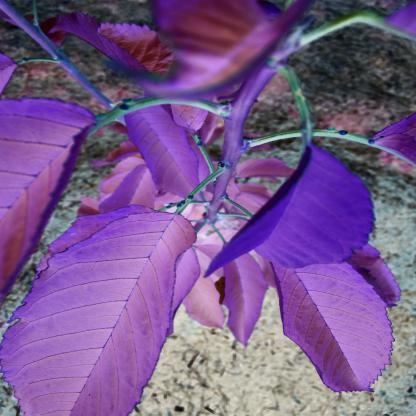Cherry leaf: (0, 200, 207, 412), (270, 246, 409, 400)
